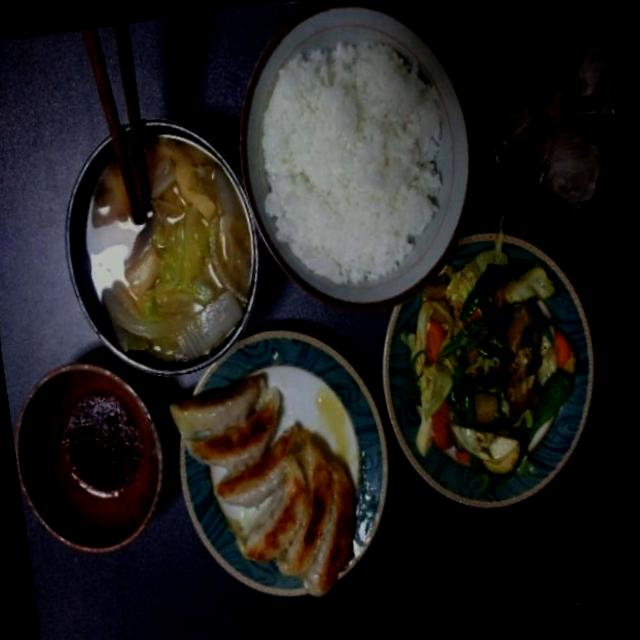Rice: (238, 27, 470, 305)
